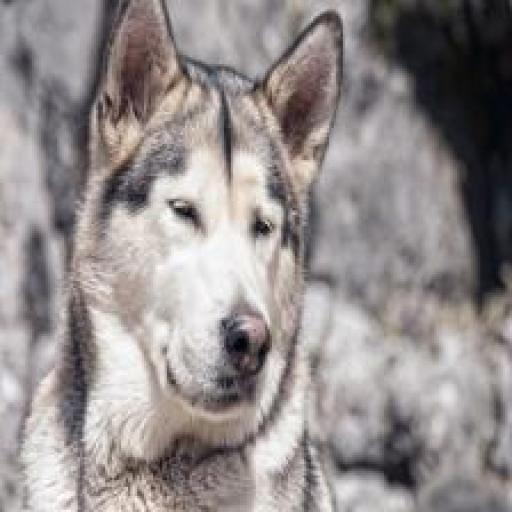wolf: (16, 0, 361, 512)
